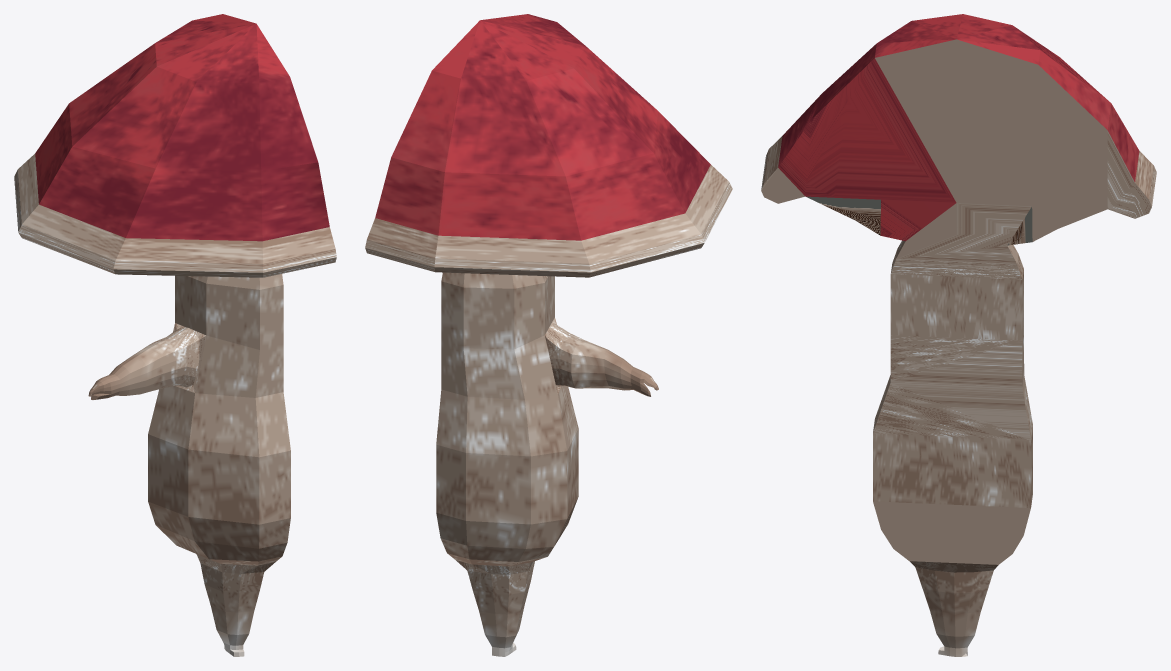
File: mushroom-man-half.glb
3 views of the same model, side by side, from view 1: azimuth 30°, elevation 25°; view 2: azimuth 150°, elevation 25°; view 3: azimuth 270°, elevation 25° (orthographic).
Visible parts, largest first — view 1: Sphere.001; view 2: Sphere.001; view 3: Sphere.001.
Boxes of the visible parts, <box> form: Sphere.001: <box>14,14,336,656</box>; Sphere.001: <box>365,14,732,656</box>; Sphere.001: <box>761,14,1156,656</box>.
Size of the model in its own units: 1.28 by 3.06 by 1.76.
Materials: 3 (3 with a texture image).
